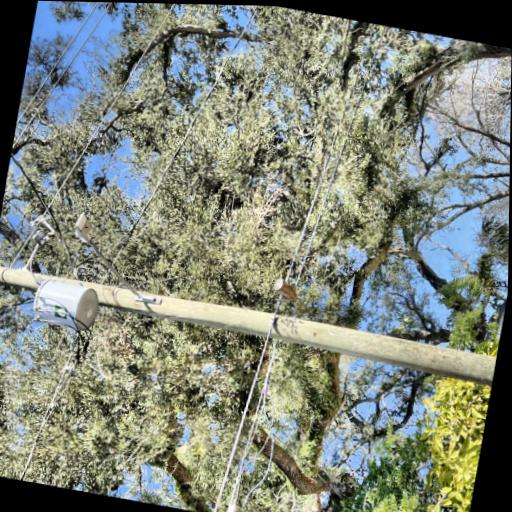pole: (0, 16, 122, 485)
street light: (60, 157, 151, 282)
transformer: (40, 122, 92, 202)
